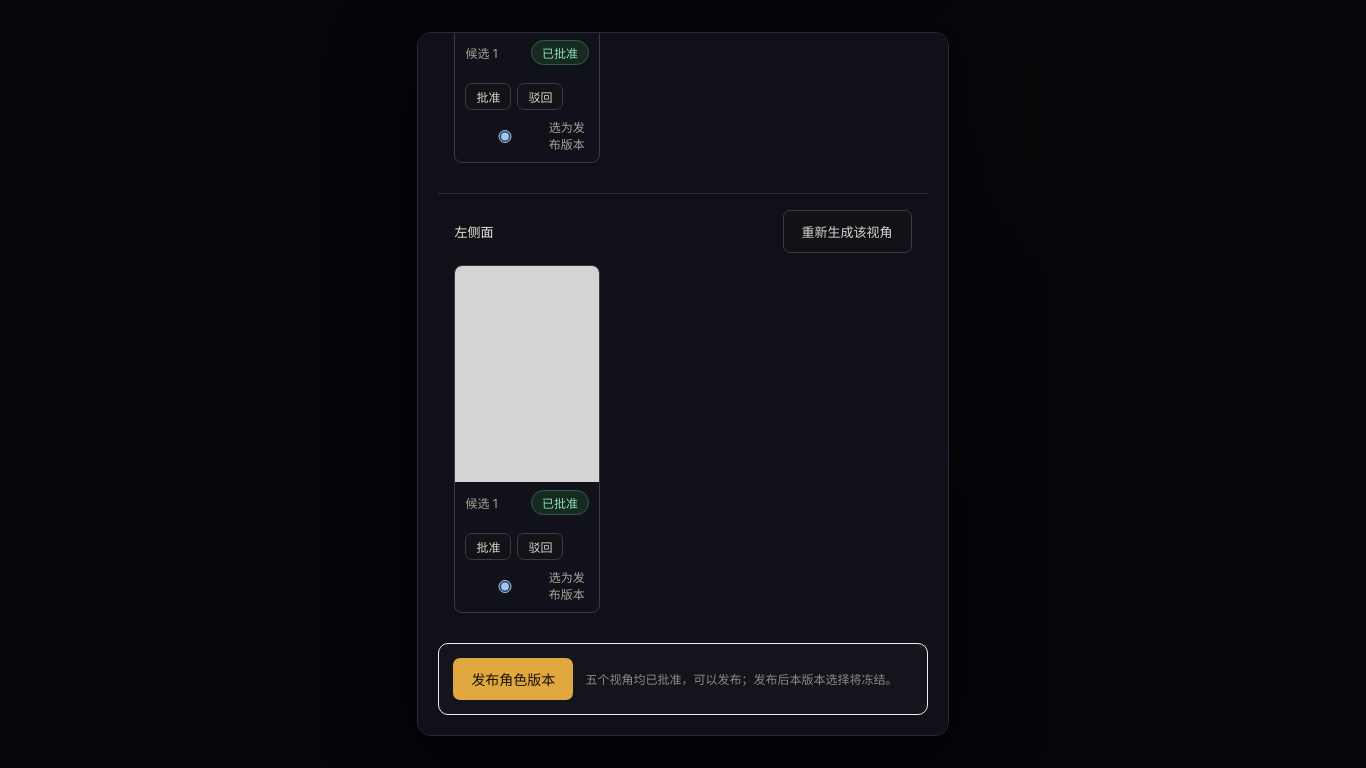
it: CharacterVersionDialog › 五个视角全部批准后发布所选候选
The width and height of the screenshot is (1366, 768).
(page scrolled)
Click the button "发布角色版本" at (513, 679), box top-left (453, 658), bottom-right (573, 700)
(page scrolled)
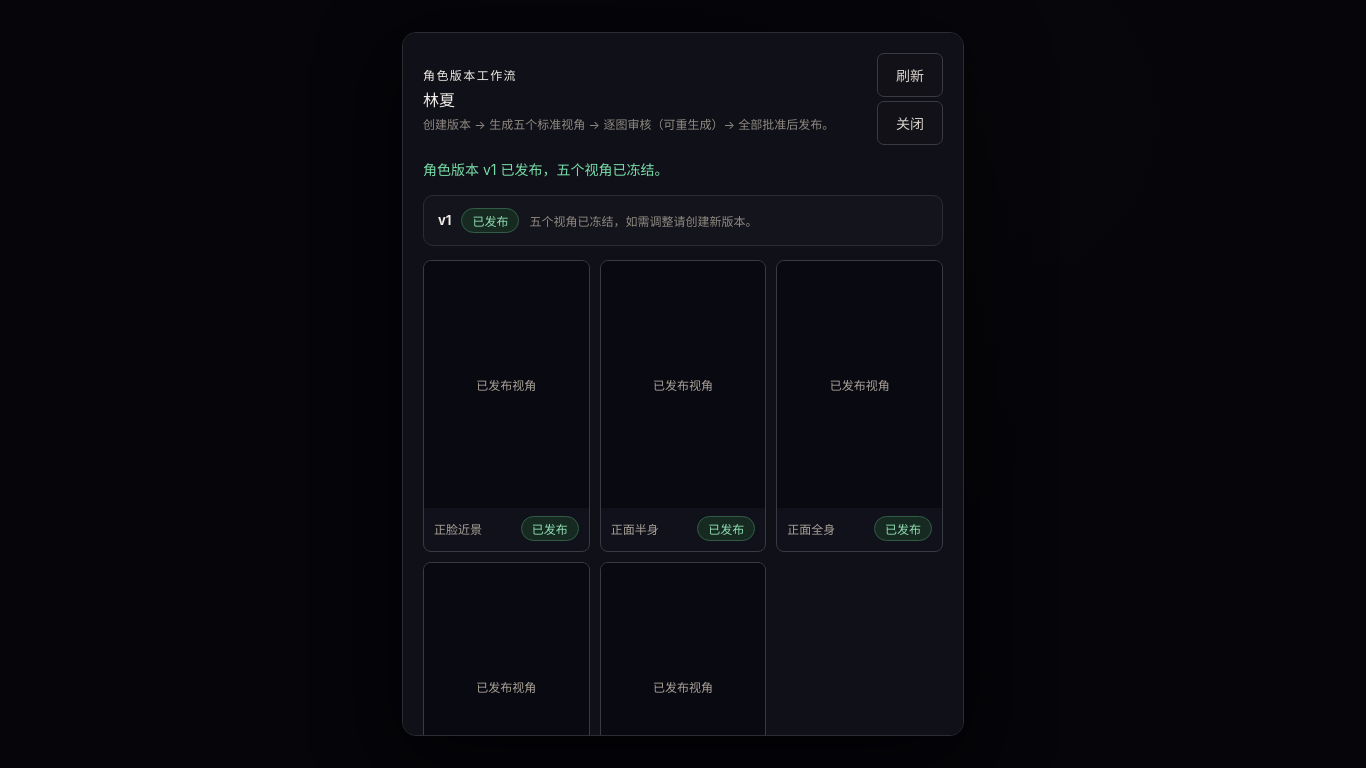
Expected: the text "角色版本 v1 已发布，五个视角已冻结。" is shown, top-left (423, 161), bottom-right (668, 178)
